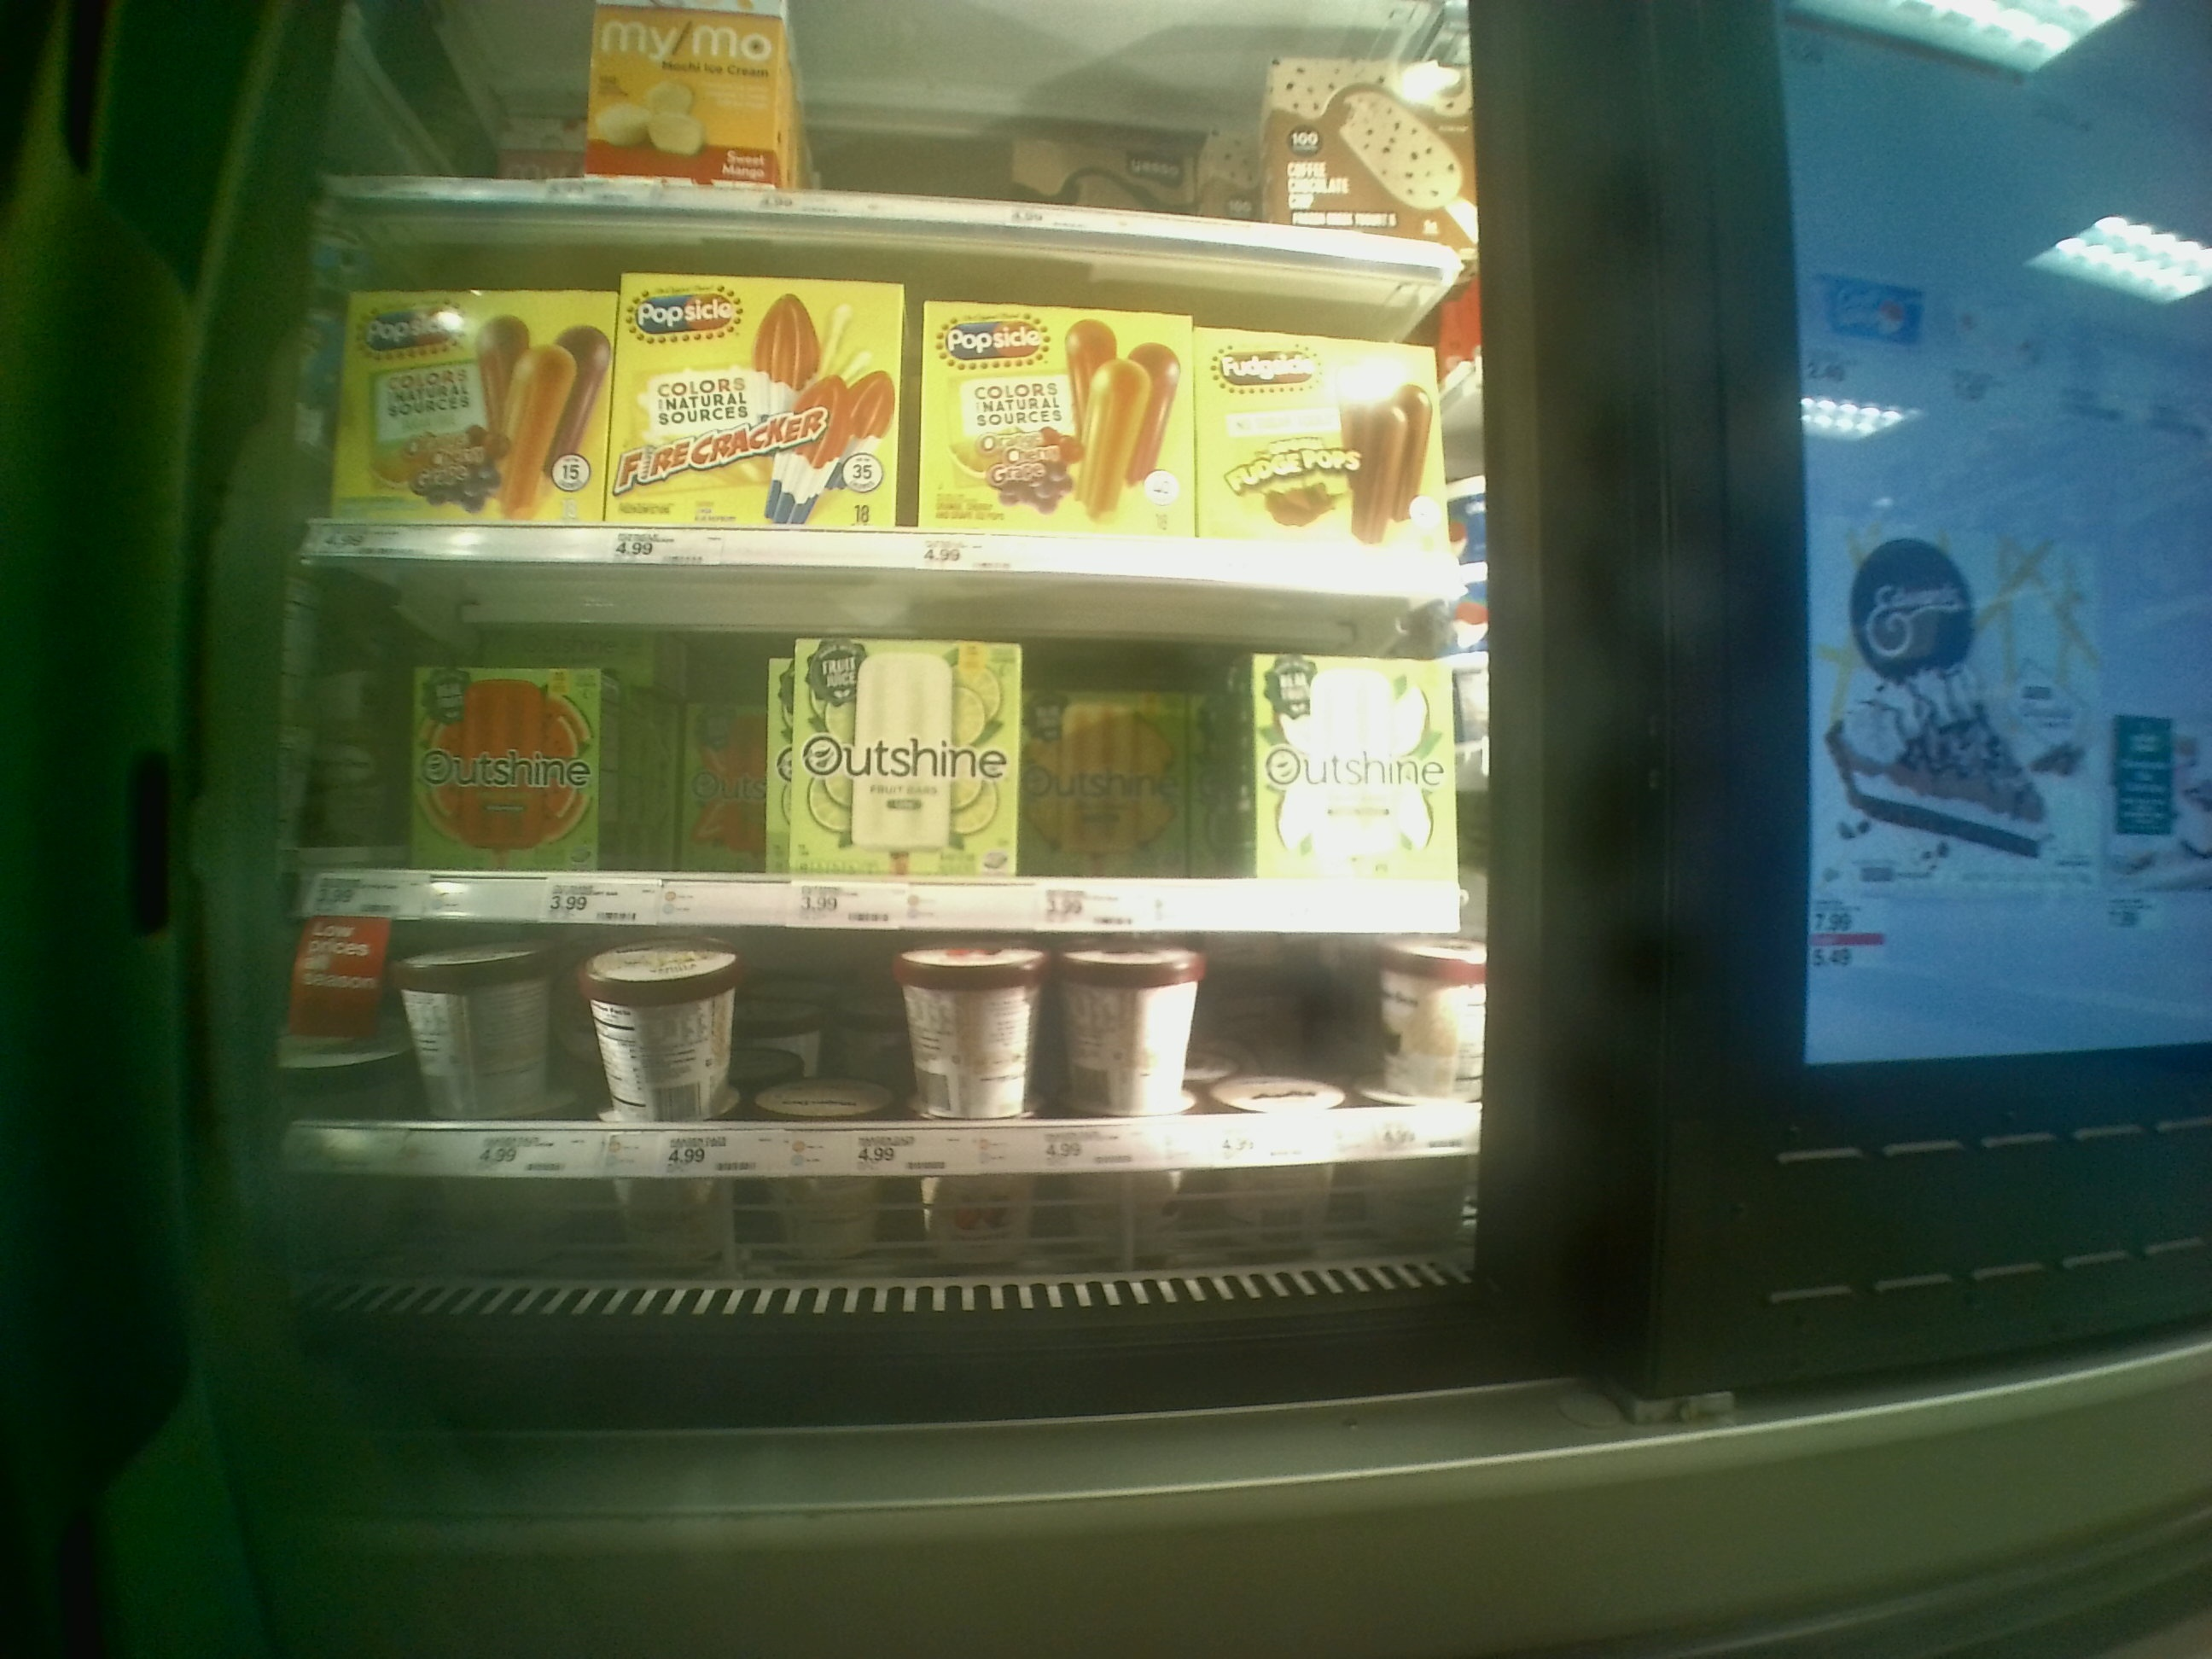ice-cream-shelf: (291, 561, 1491, 918), (296, 211, 1486, 561), (294, 918, 1479, 1175)
